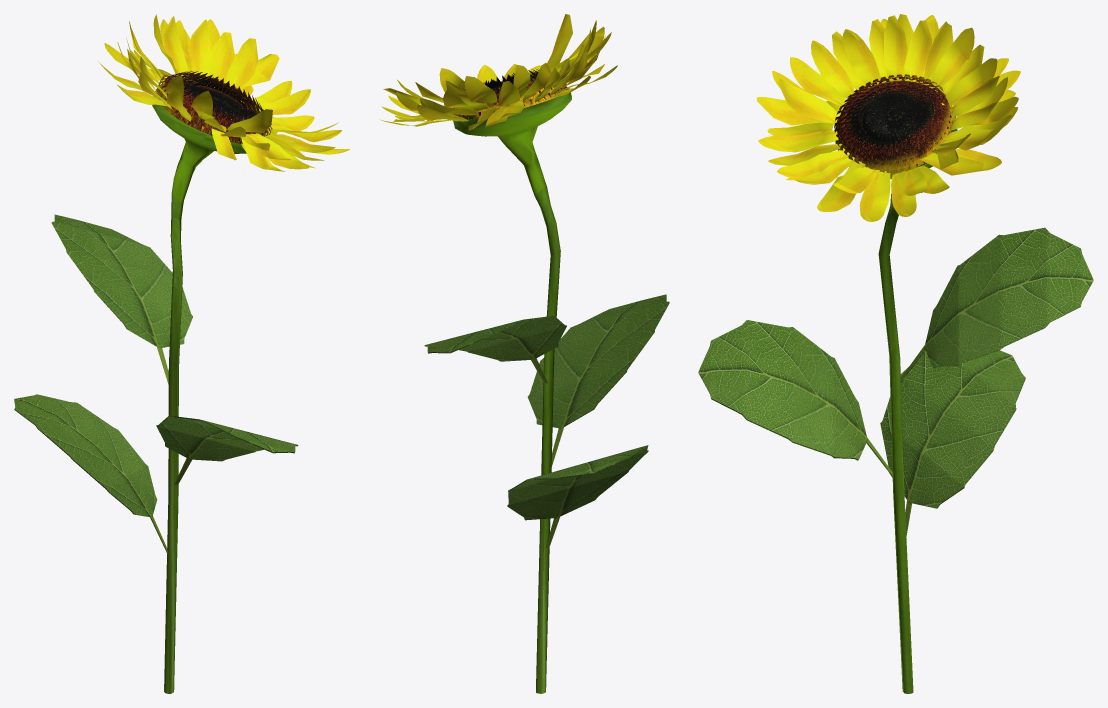
Rendered from Sunflower_Sky_Foreground_0418.fbx.
The picture shows the model from 3 angles, left to right: view 1: azimuth 30°, elevation 25°; view 2: azimuth 150°, elevation 25°; view 3: azimuth 270°, elevation 25°; orthographic projection.
Visible parts, largest first — view 1: Leaf1, Leaf2, Stalk, Leaf3, Bud, Plane757, Plane755, Plane756, Plane743, Plane738, Plane754, Plane763 (+1 smaller); view 2: Leaf3, Stalk, Leaf2, Leaf1, Bud, Plane763, Plane771; view 3: Leaf1, Leaf3, Leaf2, Bud, Stalk, Plane763, Plane753, Plane767, Plane766, Plane727, Plane765, Plane734 (+18 smaller).
Boxes of the visible parts, x1,y1,x2,y2 form: Leaf1: (51,214,192,384); Leaf2: (14,394,168,555); Stalk: (152,86,266,693); Leaf3: (156,415,298,485); Bud: (155,71,272,145); Plane757: (225,38,258,89); Plane755: (188,19,211,78); Plane756: (207,32,234,87); Plane743: (163,16,187,80); Plane738: (256,89,310,115); Plane754: (232,54,279,87); Plane763: (226,109,272,132); Leaf3: (527,294,669,466); Stalk: (453,88,571,693); Leaf2: (507,445,648,549); Leaf1: (424,315,566,383); Bud: (453,69,568,119); Plane763: (547,14,572,72); Plane771: (464,76,497,105); Leaf1: (900,227,1093,382); Leaf3: (698,320,893,477); Leaf2: (880,350,1025,536); Bud: (834,74,955,174); Stalk: (834,111,957,693); Plane763: (778,78,838,124); Plane753: (929,27,974,88); Plane767: (884,15,907,80); Plane766: (842,29,880,87); Plane727: (859,170,890,221); Plane765: (811,40,854,98); Plane734: (790,57,846,105).
Size of the model in its own units: 13.52 by 30.58 by 16.6.
